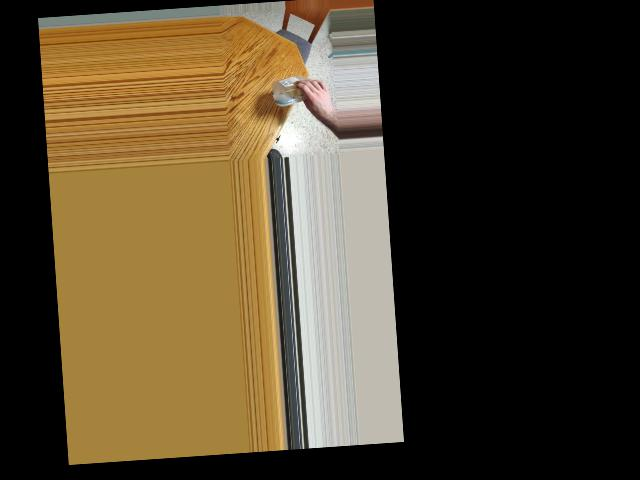cheese: (279, 73, 319, 109)
